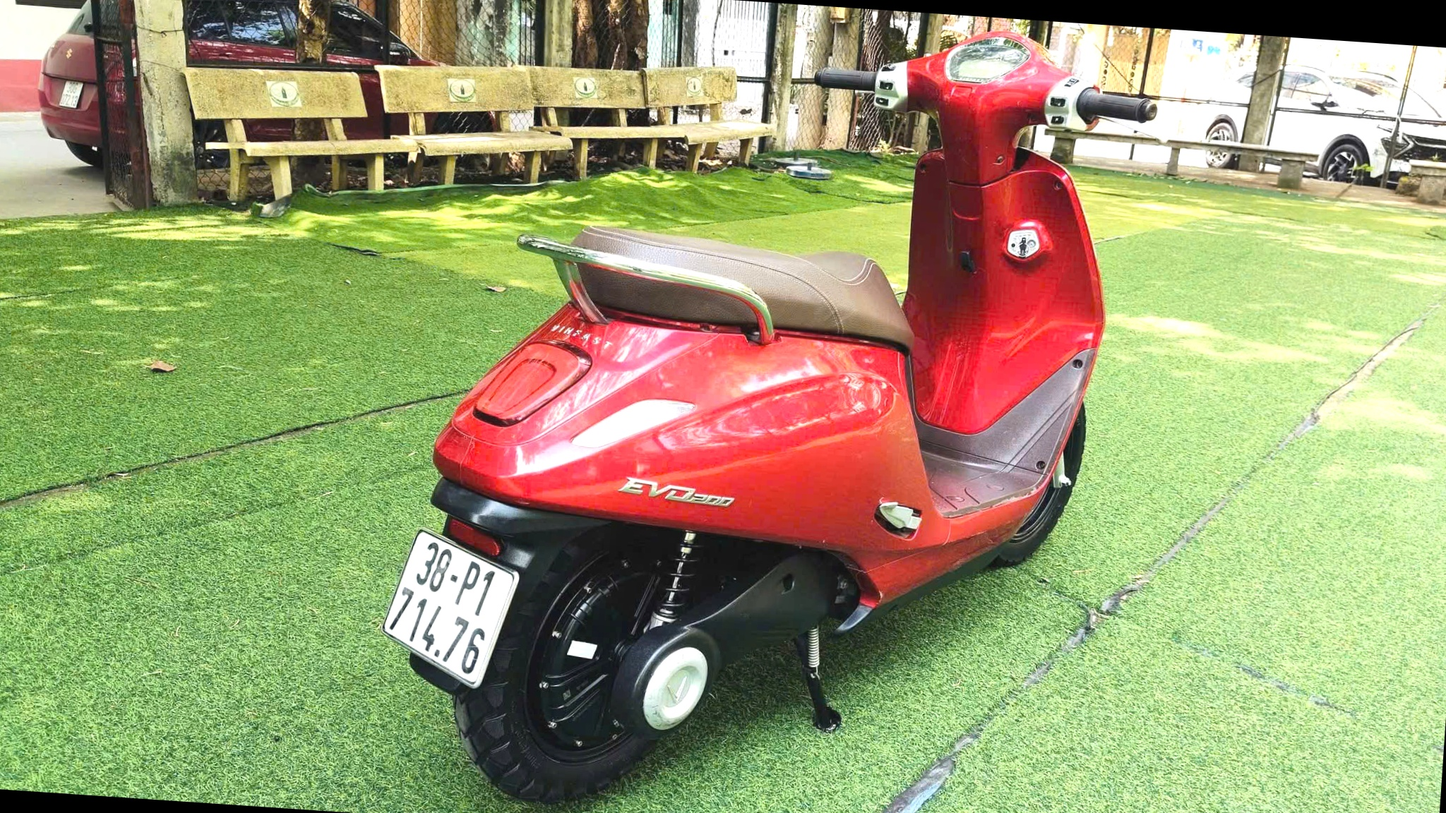Bien-so: (376, 530, 528, 692)
